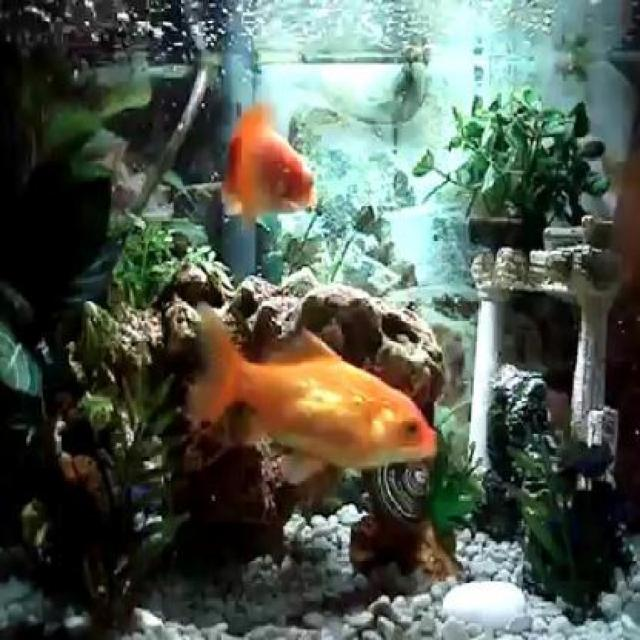GoldFish: (192, 296, 440, 478), (224, 101, 322, 222)
